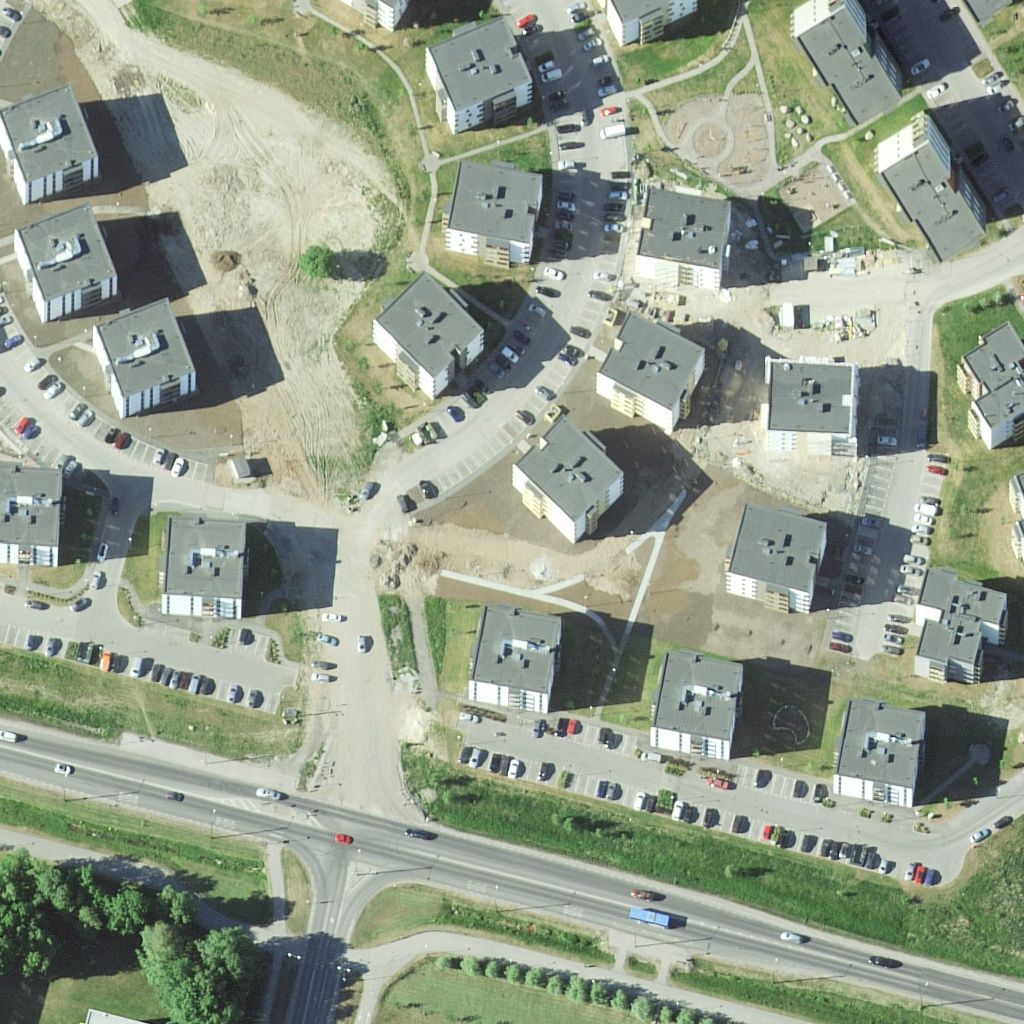building: (881, 111, 995, 268), (365, 271, 485, 406), (510, 415, 628, 546), (789, 1, 906, 124), (11, 203, 124, 326), (87, 302, 208, 415), (1, 83, 112, 204), (416, 22, 536, 132), (442, 156, 551, 271), (721, 503, 829, 618), (604, 313, 704, 436), (632, 182, 734, 296), (762, 352, 864, 465), (161, 505, 255, 625), (467, 605, 565, 718), (649, 649, 743, 766), (914, 569, 1010, 683), (834, 698, 934, 804), (955, 321, 1024, 448), (1, 459, 69, 569)
